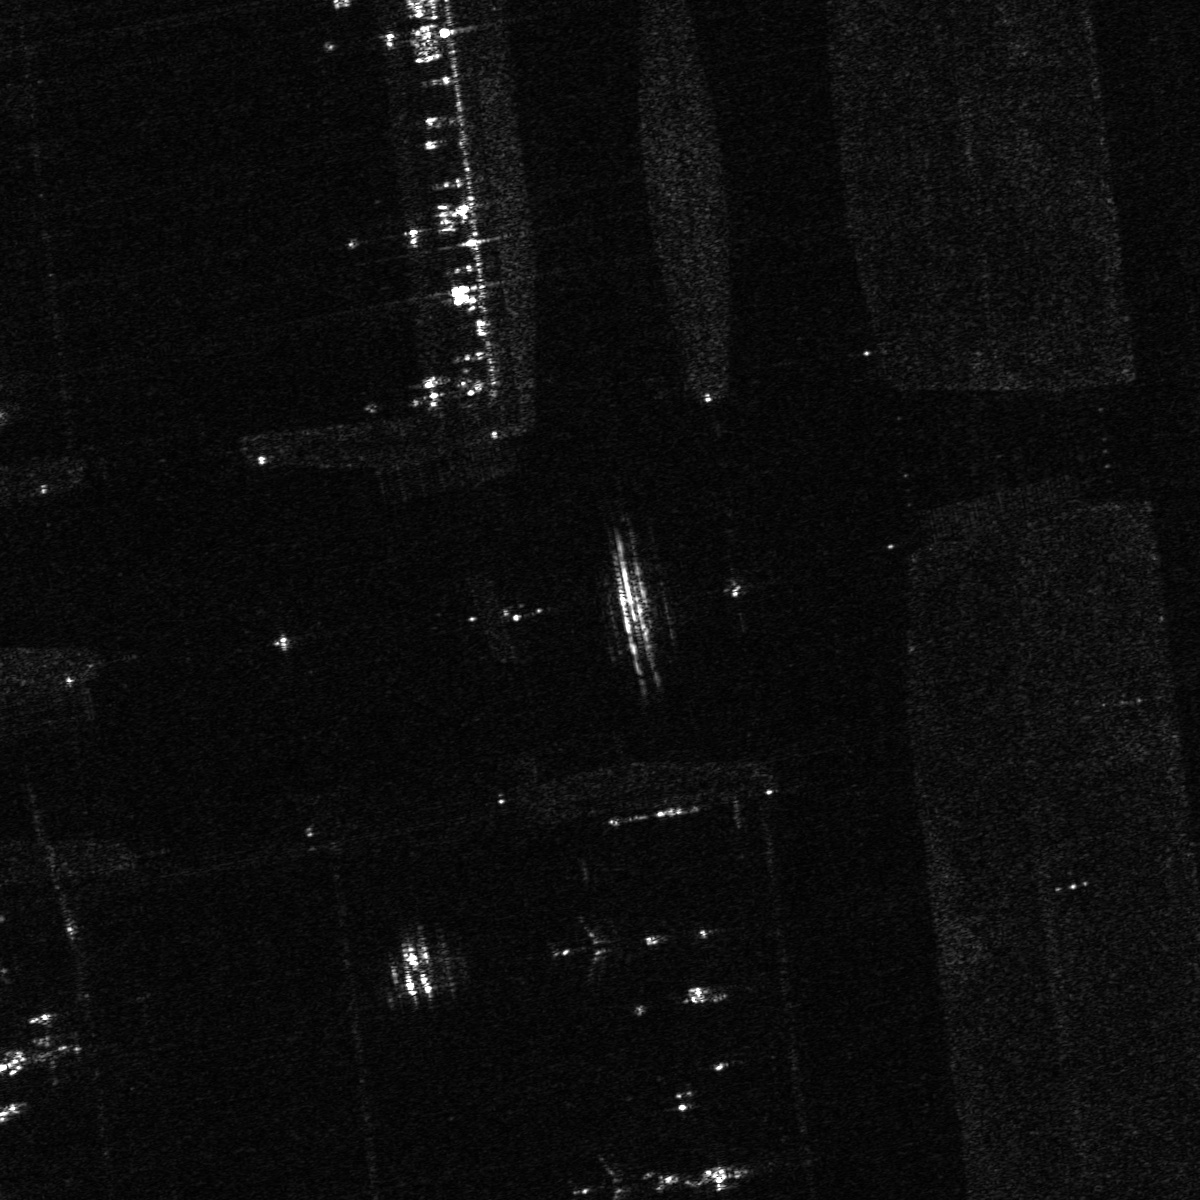Boeing737: (540, 905, 631, 987), (558, 1149, 662, 1199)
